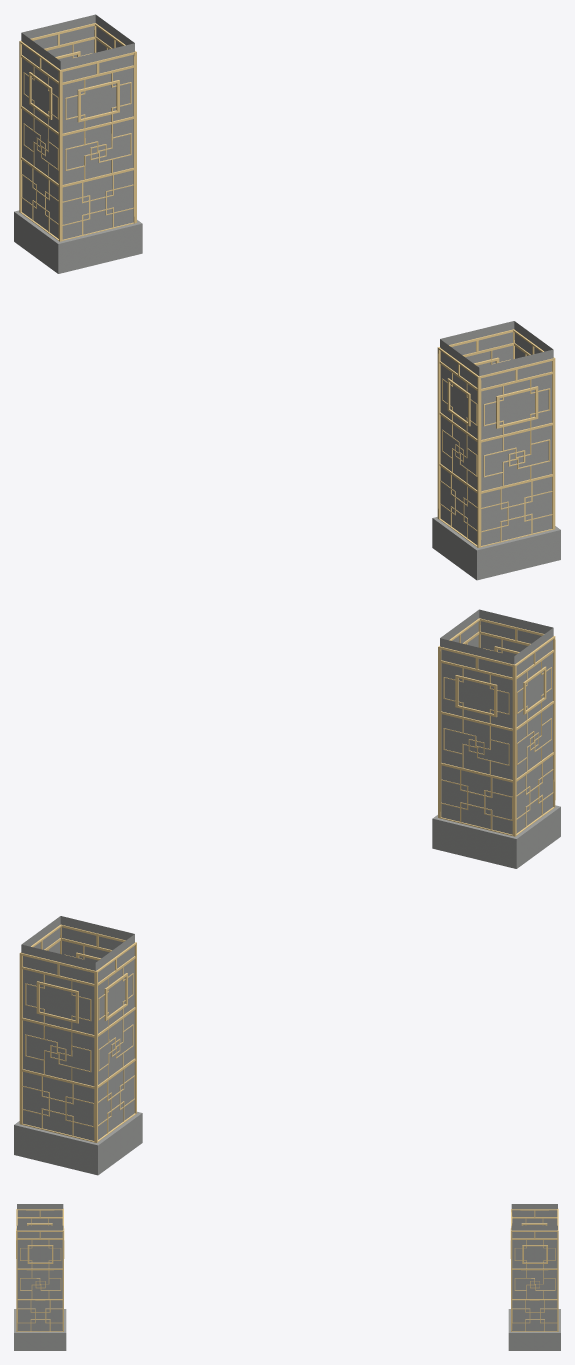
File: MeshBaker (2)-mesh-mesh1.fbx
3 renders of one model, top to bottom at view 1: azimuth 30°, elevation 25°; view 2: azimuth 150°, elevation 25°; view 3: azimuth 270°, elevation 25°, orthographic. The views are drawn at different scales.
Parts seen in each view (by area): view 1: MeshBaker__2__mesh_mesh1; view 2: MeshBaker__2__mesh_mesh1; view 3: MeshBaker__2__mesh_mesh1.
Part boxes in pixels (x1,y1,x2,y2): MeshBaker__2__mesh_mesh1: (14, 14, 560, 580); MeshBaker__2__mesh_mesh1: (14, 609, 560, 1175); MeshBaker__2__mesh_mesh1: (14, 1204, 560, 1350).
Size of the model in its own units: 670 by 1595 by 6381.
